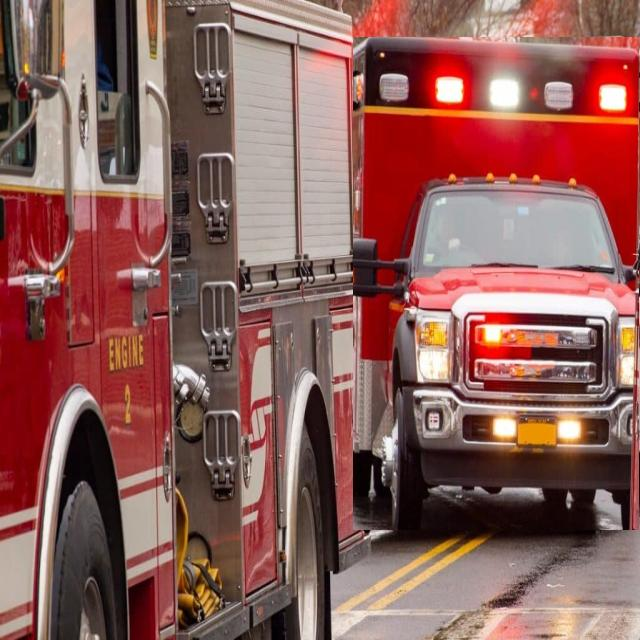emergency: (0, 0, 365, 639), (354, 38, 639, 530)
